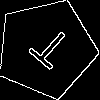T: (21, 23, 75, 79)
